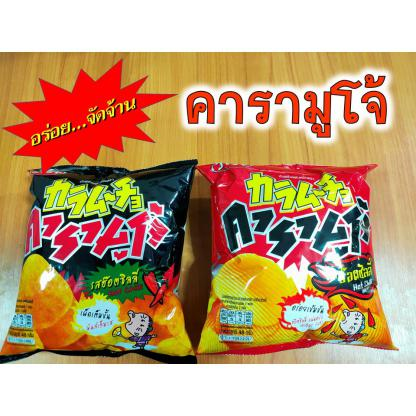potatochip: (0, 158, 196, 366), (194, 164, 398, 350)
